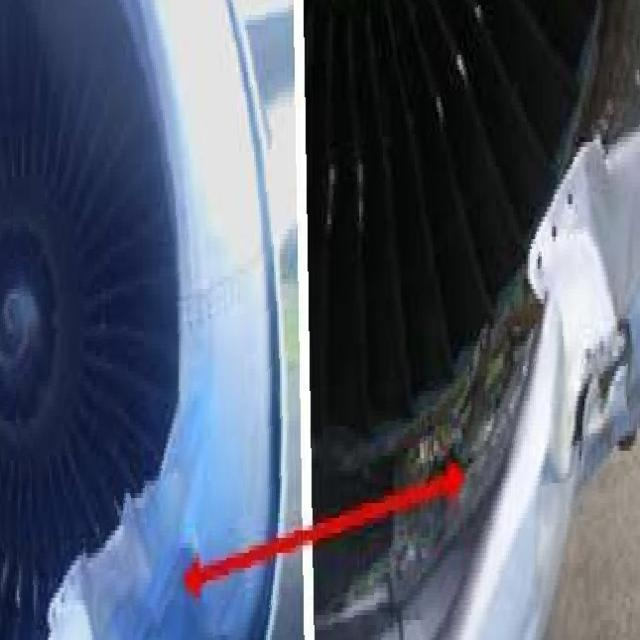dent: (531, 320, 590, 596)
